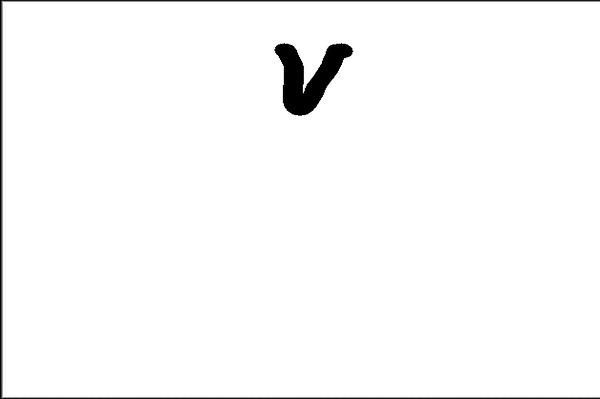V: (261, 24, 369, 118)
